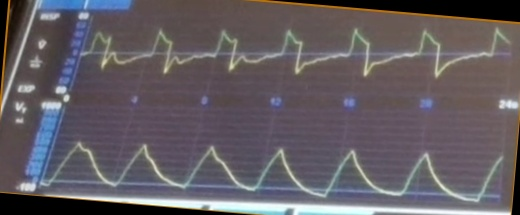Premature_cycling Flow: (86, 23, 511, 88)
Premature_cycling Volume: (55, 134, 499, 201)
